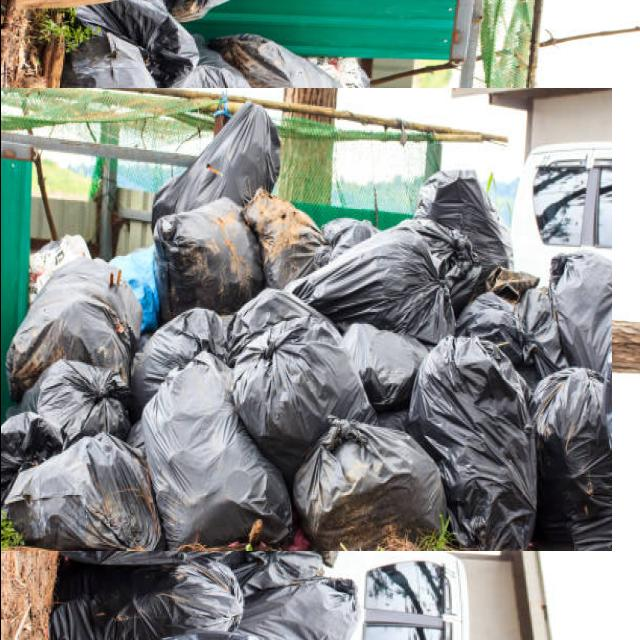garbage: (15, 44, 567, 596)
